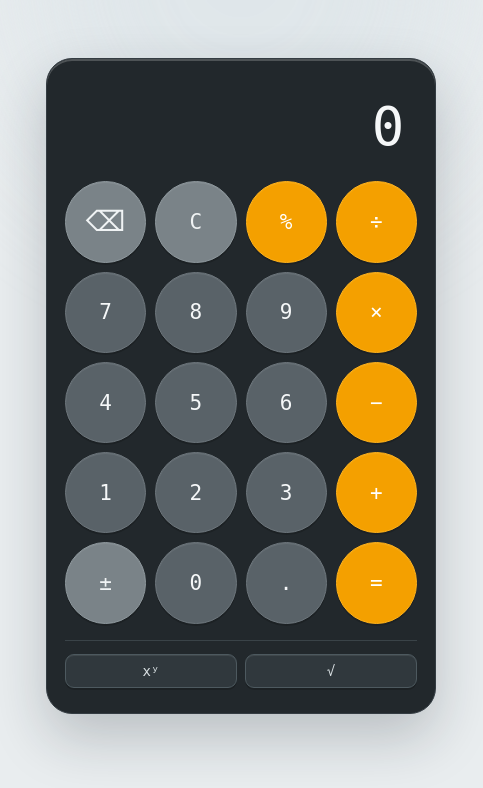
Test: traditional calculator › shows inline API errors and preserves the display
Click the button "7".
click(106, 312)  # box 65,272 -> 146,353
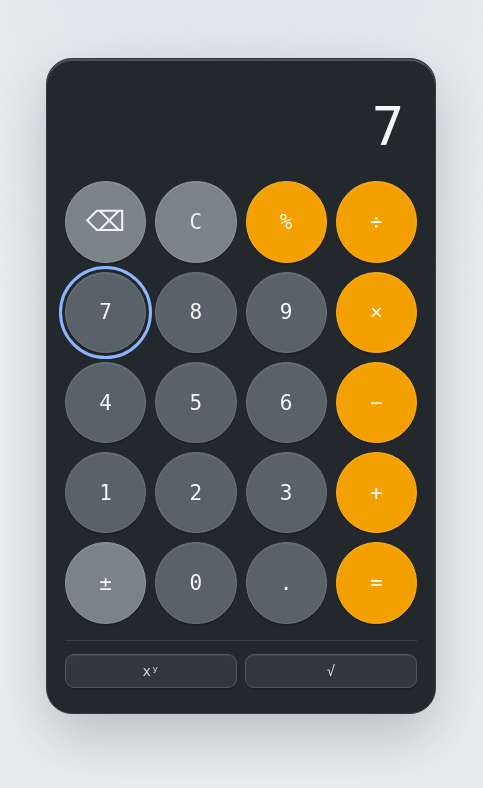
Click the button named "Add".
click(376, 493)  # box 336,452 -> 417,533
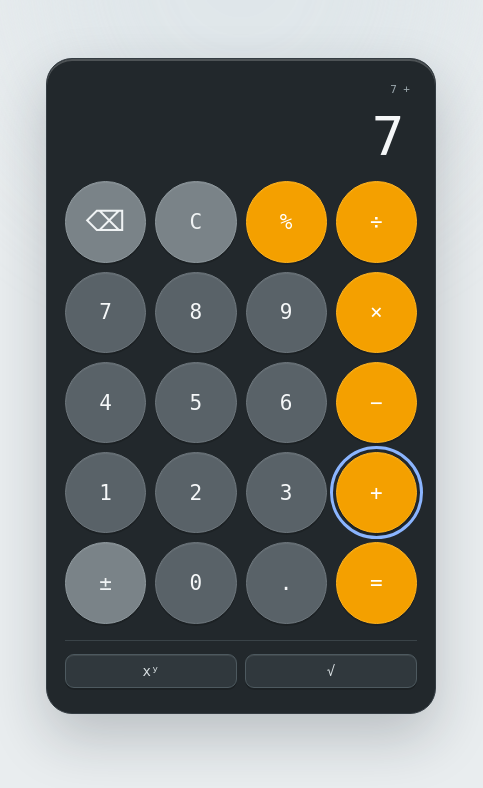
Click the button "3".
click(286, 493)  # box 246,452 -> 327,533
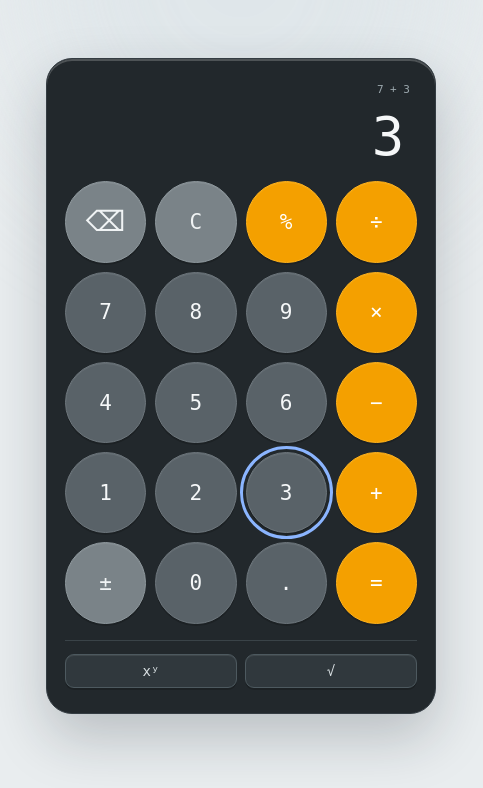
Click the button named "Equals".
click(376, 583)  # box 336,542 -> 417,624
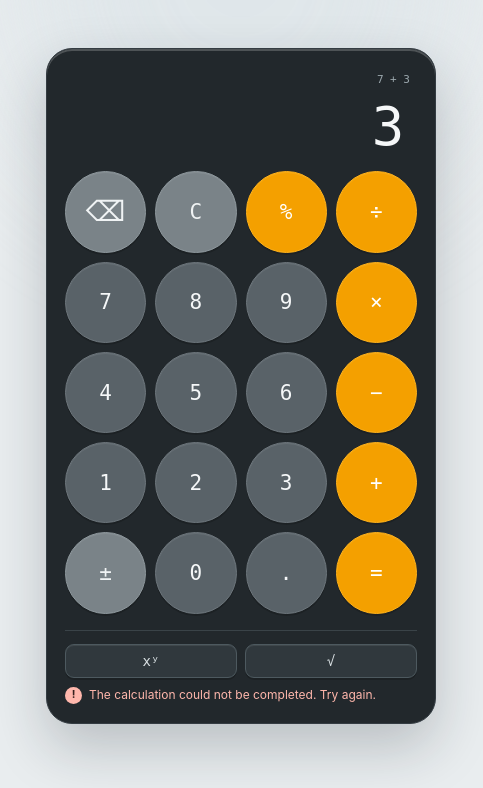
Expected: the text named "Calculator display" reads "3", 372,95 -> 400,158
Expected: the message shows "could not be completed", 89,687 -> 376,702
